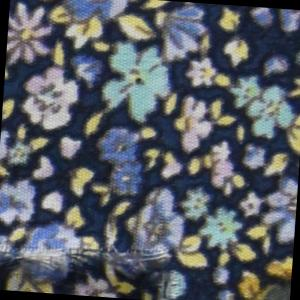Damage: (1, 225, 185, 300)
Oil Stain: (225, 264, 293, 300)
